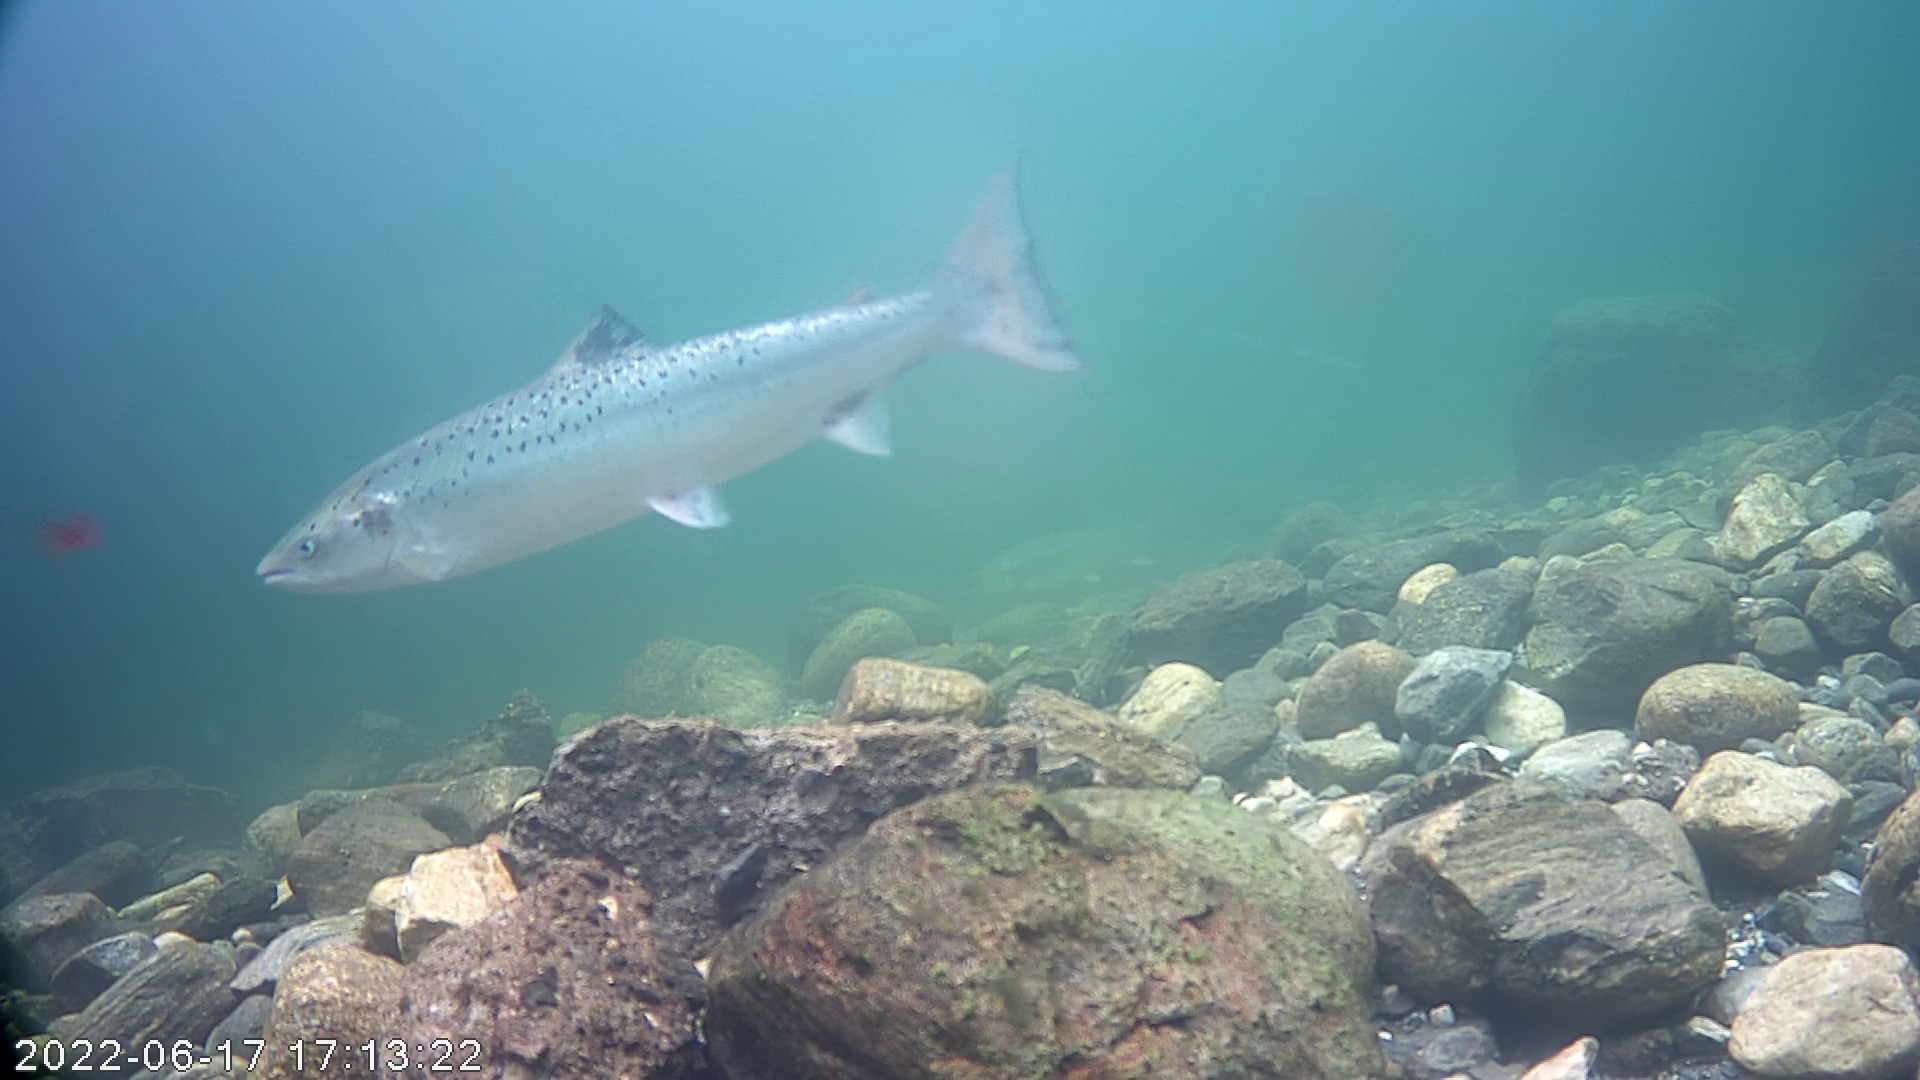salmon: (247, 158, 1096, 597)
